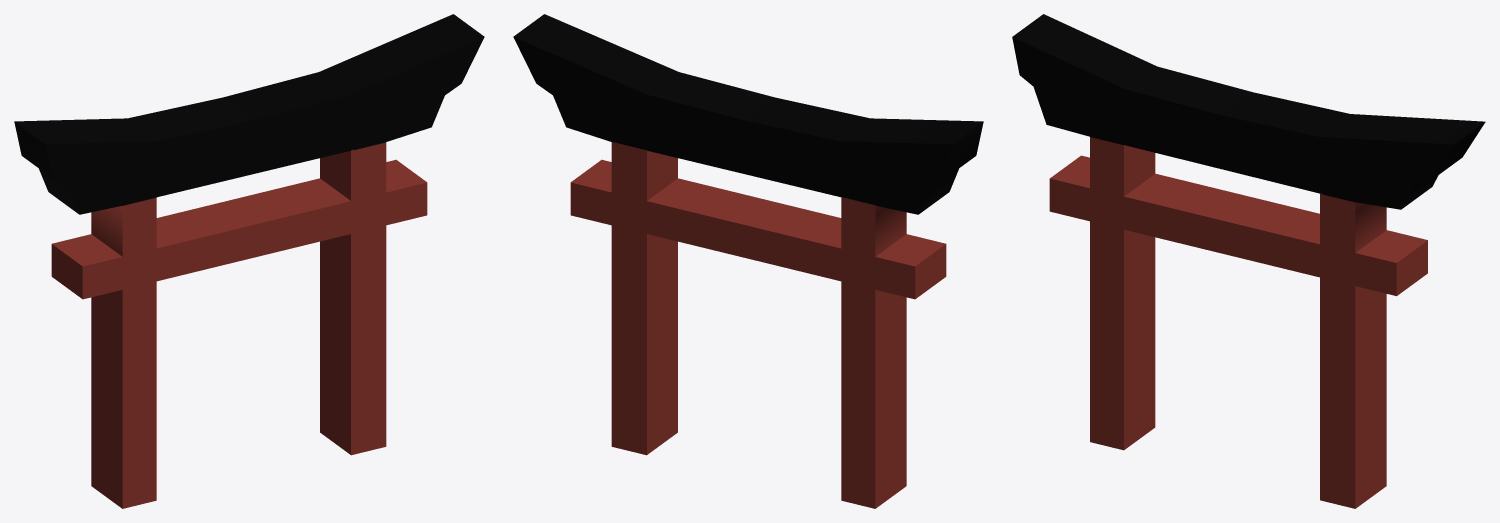
Rendered from gate v2.fbx.
The picture shows the model from 3 angles, left to right: view 1: azimuth 30°, elevation 25°; view 2: azimuth 150°, elevation 25°; view 3: azimuth 330°, elevation 25°; orthographic projection.
Parts seen in each view (by area): view 1: Statue; view 2: Statue; view 3: Statue.
Part boxes in pixels (x1,y1,x2,y2): Statue: (14, 14, 484, 508); Statue: (513, 14, 983, 508); Statue: (1012, 14, 1485, 508).
Bounding box in the file's own units: 41.11 × 34.51 × 5.05.
Materials: 1 (1 with a texture image).
